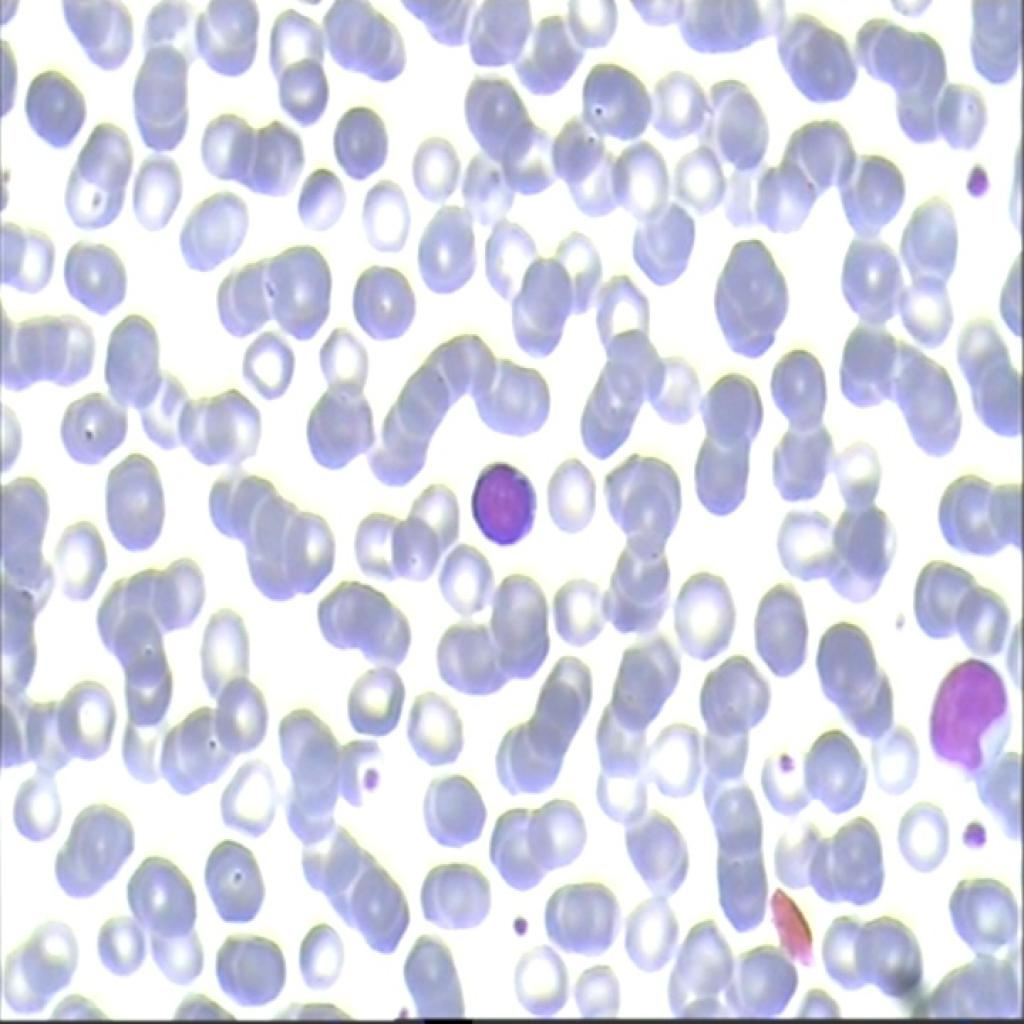Limfosit: (923, 642, 1023, 775), (455, 444, 549, 546)
Platelet: (953, 811, 994, 857), (956, 160, 996, 206), (762, 745, 812, 779), (354, 756, 386, 802), (504, 903, 534, 944)
